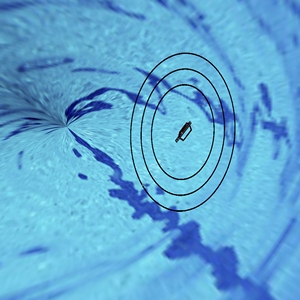circle: (103, 31, 248, 222)
submarine: (167, 110, 197, 151)
